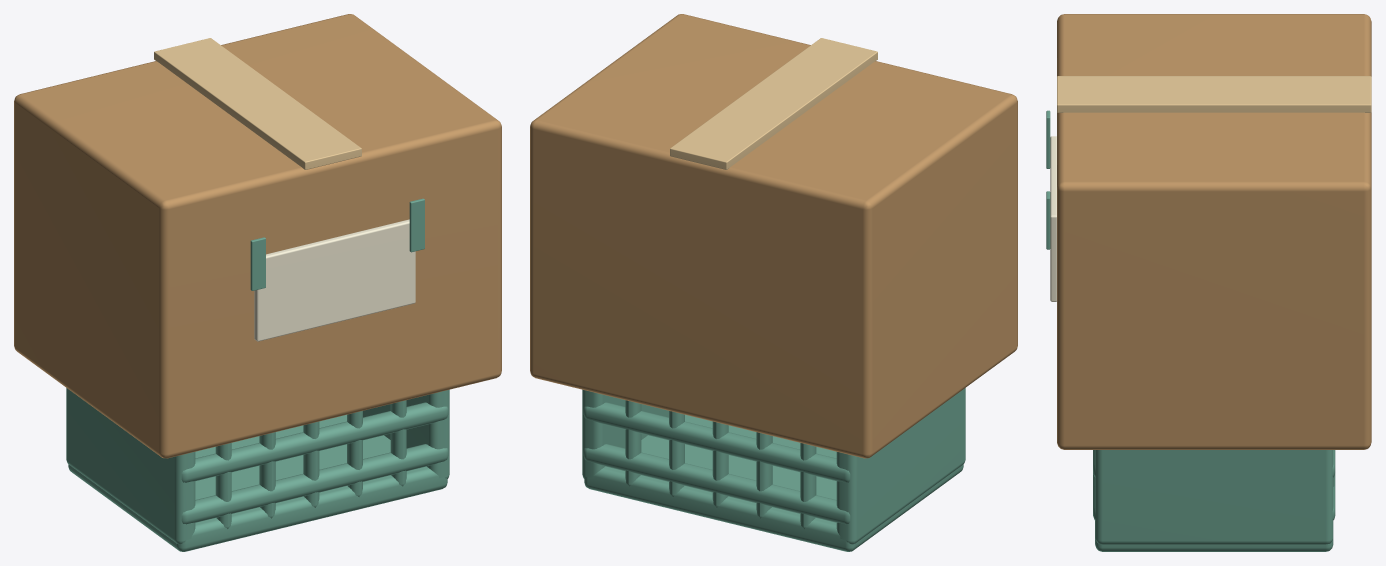
File: interaction-props.glb
The picture shows the model from 3 angles, left to right: view 1: azimuth 30°, elevation 25°; view 2: azimuth 150°, elevation 25°; view 3: azimuth 270°, elevation 25°; orthographic projection. The views are drawn at different scales.
Parts seen in each view (by area): view 1: carton.body, carton.label, basket.base, carton.tape, basket.side, basket.rail.004, basket.rail.003, basket.side.001, basket.rib.007, basket.rib.006, basket.rib.009, basket.rib.005 (+3 smaller); view 2: carton.body, basket.base, carton.tape, basket.side, basket.rail.001, basket.rail, basket.side.001, basket.rib.002, basket.rib.001, basket.rib.004, basket.rib, basket.rib.003; view 3: carton.body, basket.side.001, carton.tape, basket.base, carton.label.
Boxes of the visible parts, bbox=[...] form: carton.body: bbox=[14, 14, 501, 458]; carton.label: bbox=[254, 219, 415, 341]; basket.base: bbox=[68, 414, 447, 551]; carton.tape: bbox=[154, 38, 361, 169]; basket.side: bbox=[66, 388, 195, 544]; basket.rail.004: bbox=[181, 402, 448, 482]; basket.rail.003: bbox=[181, 444, 448, 524]; basket.side.001: bbox=[363, 389, 449, 478]; basket.rib.007: bbox=[303, 421, 319, 507]; basket.rib.006: bbox=[259, 432, 275, 518]; basket.rib.009: bbox=[390, 400, 406, 486]; basket.rib.005: bbox=[215, 443, 231, 528]; carton.body: bbox=[530, 14, 1017, 458]; basket.base: bbox=[584, 414, 963, 551]; carton.tape: bbox=[670, 38, 877, 169]; basket.side: bbox=[836, 388, 965, 544]; basket.rail.001: bbox=[583, 402, 850, 482]; basket.rail: bbox=[583, 444, 850, 524]; basket.side.001: bbox=[582, 389, 668, 478]; basket.rib.002: bbox=[712, 421, 728, 507]; basket.rib.001: bbox=[756, 432, 772, 518]; basket.rib.004: bbox=[625, 400, 641, 486]; basket.rib: bbox=[800, 443, 816, 528]; basket.rib.003: bbox=[669, 411, 684, 496]; carton.body: bbox=[1057, 14, 1371, 449]; basket.side.001: bbox=[1095, 450, 1333, 544]; carton.tape: bbox=[1057, 76, 1371, 112]; basket.base: bbox=[1095, 538, 1333, 551]; carton.label: bbox=[1050, 136, 1056, 301].
Bounding box in the file's own units: 0.43 × 0.458 × 0.341.
